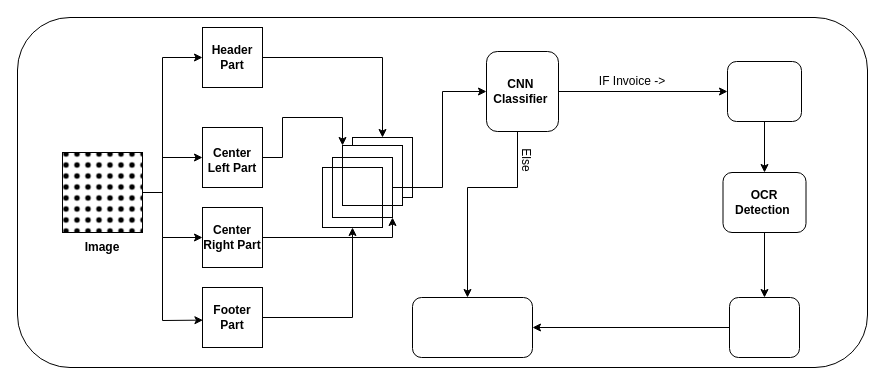
This 885x385 diagram has some shape labels left out. The centre of each missing label's shape, as x and y in pixels:
"Data Extraction" belongs at (764,91).
"Gemini Vision" belongs at (764,327).
"Response" belongs at (472,327).
